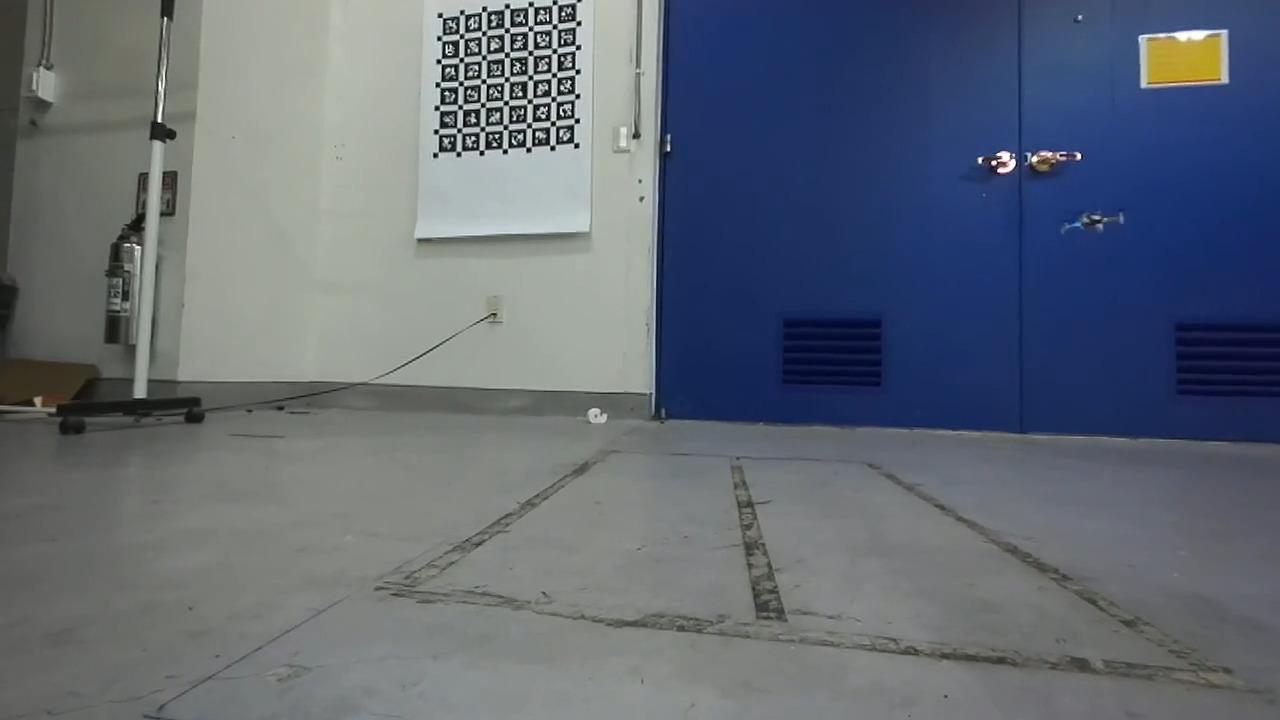crazyflie: (1054, 204, 1132, 237)
